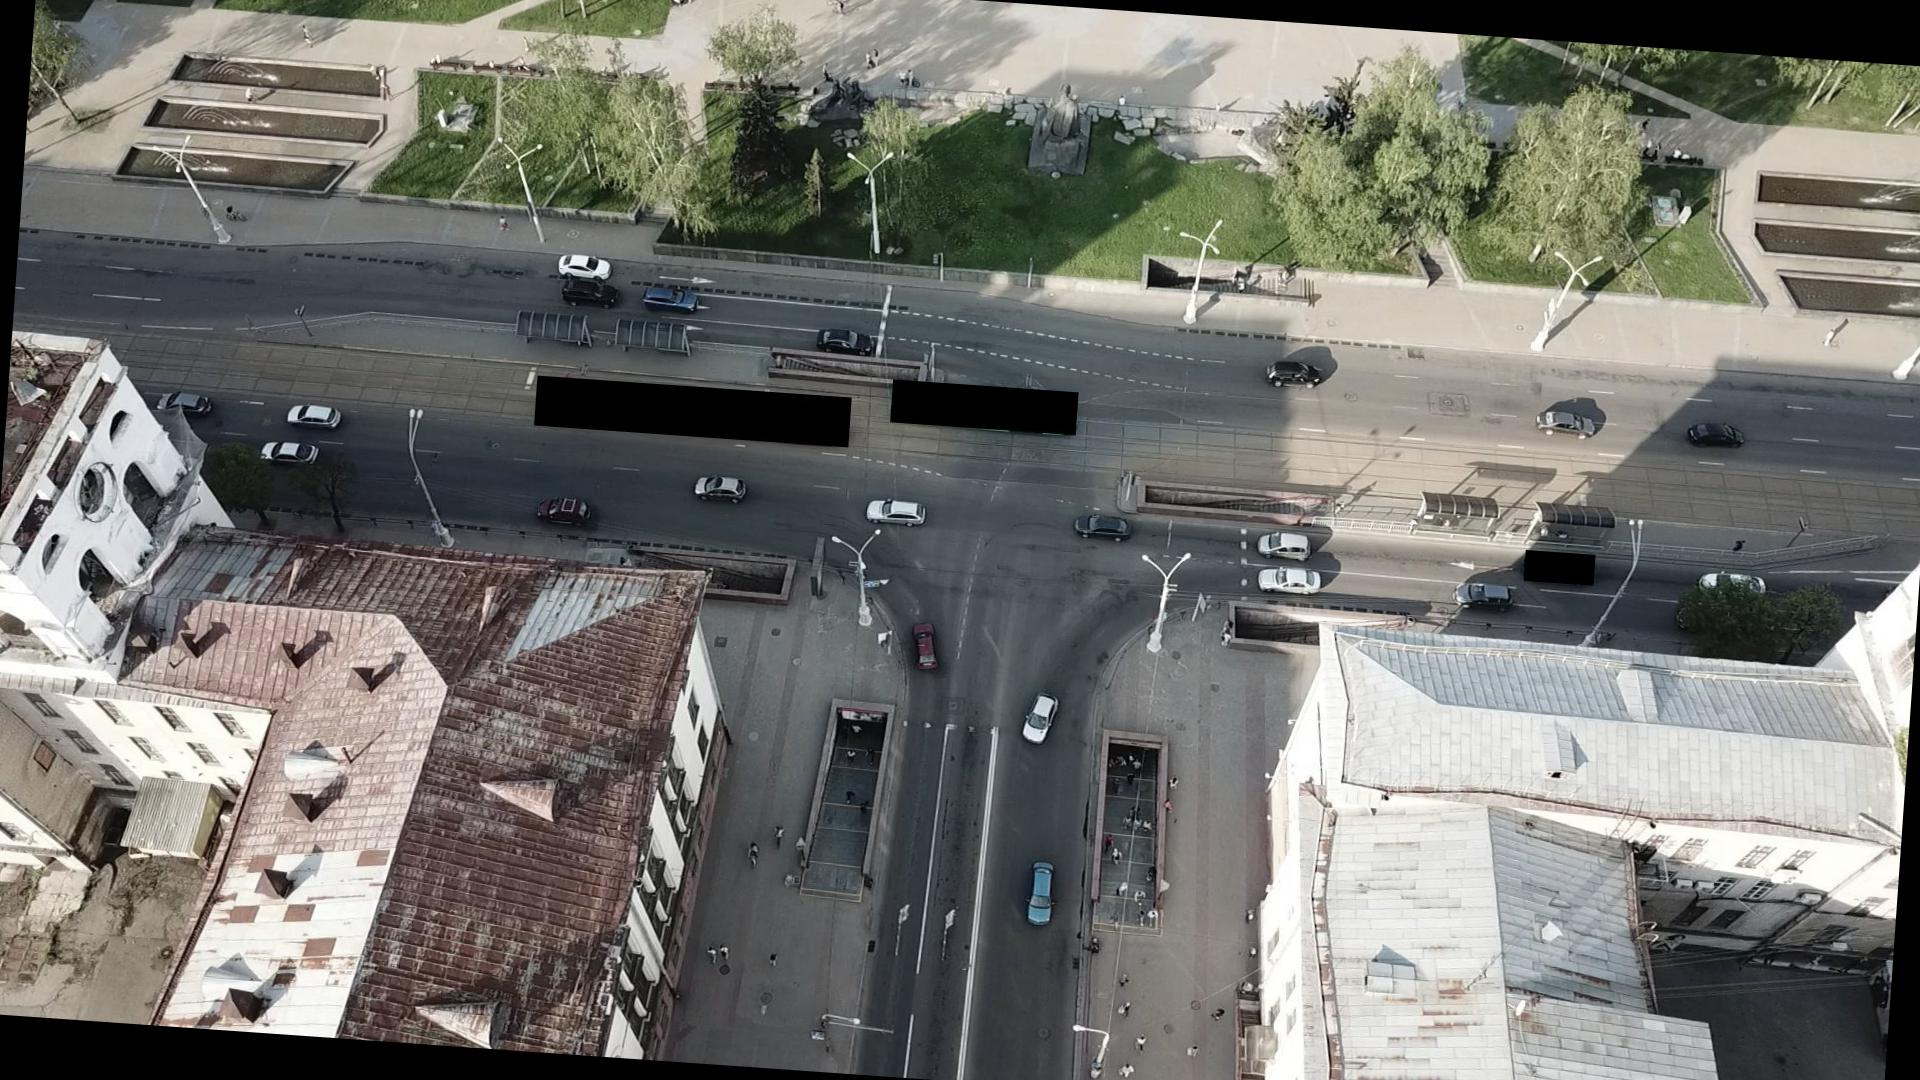vehicle: (1021, 690, 1062, 746), (1697, 571, 1767, 600), (1452, 582, 1518, 612), (1257, 566, 1324, 595), (1026, 860, 1055, 927), (1263, 360, 1324, 392), (1072, 512, 1135, 542), (814, 326, 877, 356), (560, 277, 621, 309), (535, 495, 593, 527), (864, 497, 928, 526), (1535, 409, 1597, 438), (1255, 530, 1312, 562), (1687, 419, 1747, 448), (642, 285, 700, 315), (285, 400, 345, 429), (691, 472, 746, 504), (257, 440, 319, 468), (156, 389, 211, 418), (556, 252, 613, 280), (911, 620, 942, 670)
